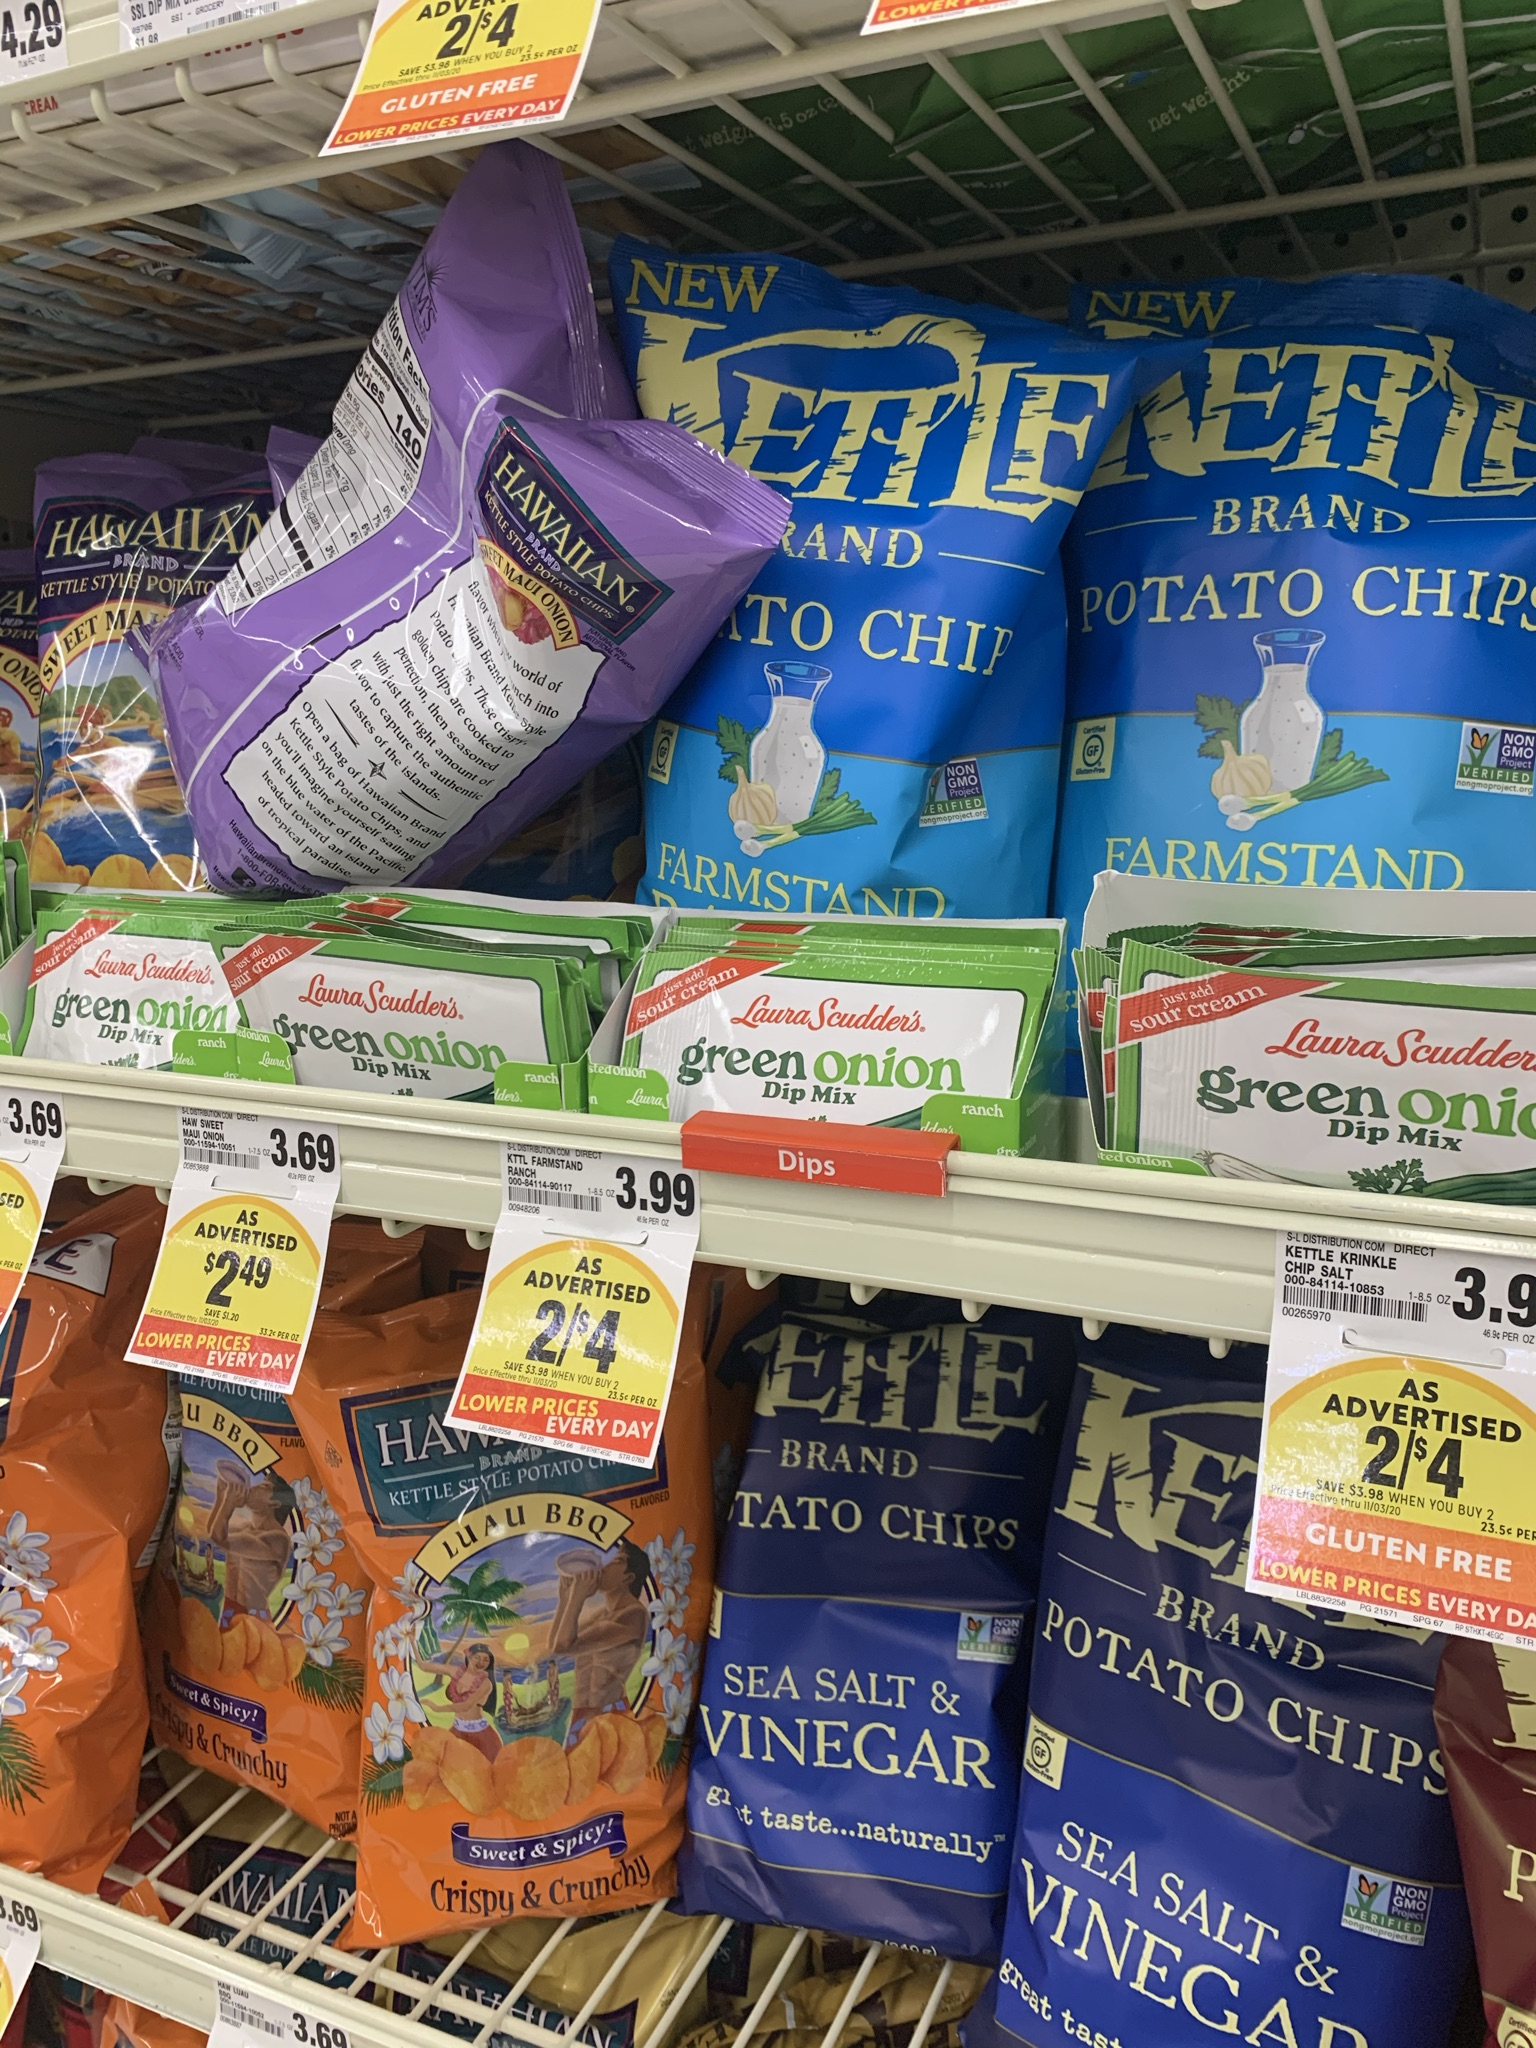Chips: (1097, 268, 1528, 934), (332, 1340, 695, 1917), (705, 1287, 992, 1977)
